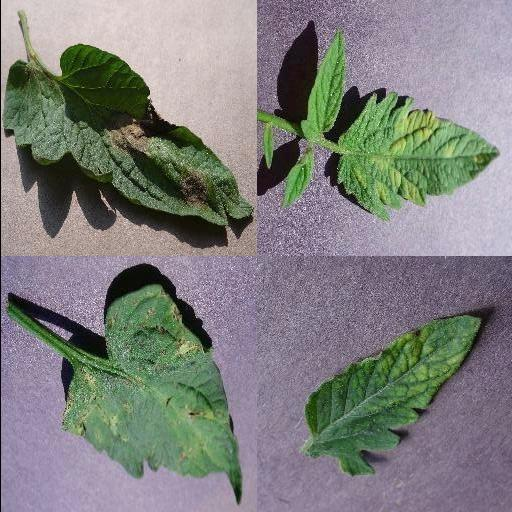Healthy: (302, 32, 346, 134)
Late Blight: (0, 43, 255, 226)
Leaf Mold: (336, 90, 502, 222)
Mosaic Virus: (305, 315, 483, 479)
Septoria: (60, 281, 244, 505)
